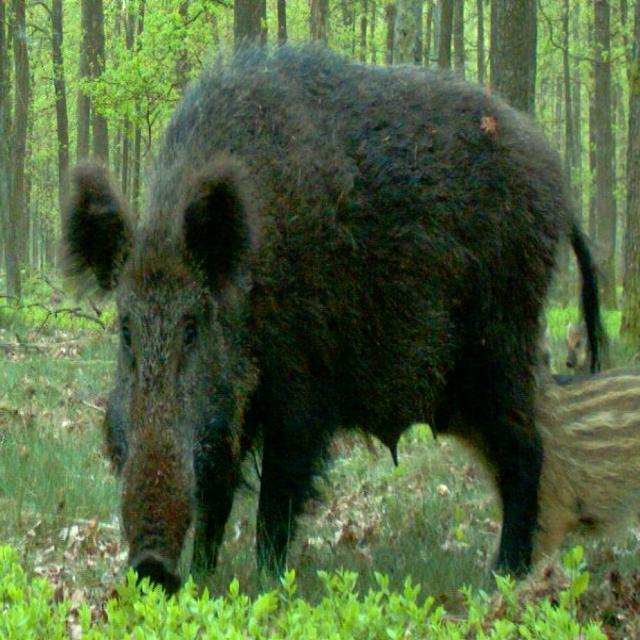pig: (39, 0, 640, 616)
